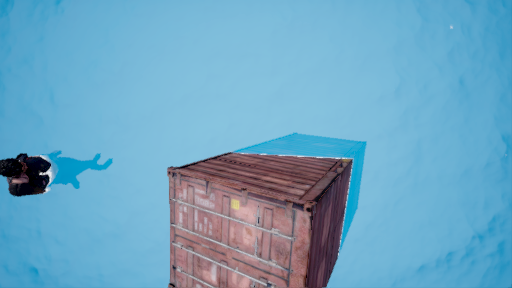person: (2, 152, 112, 199)
